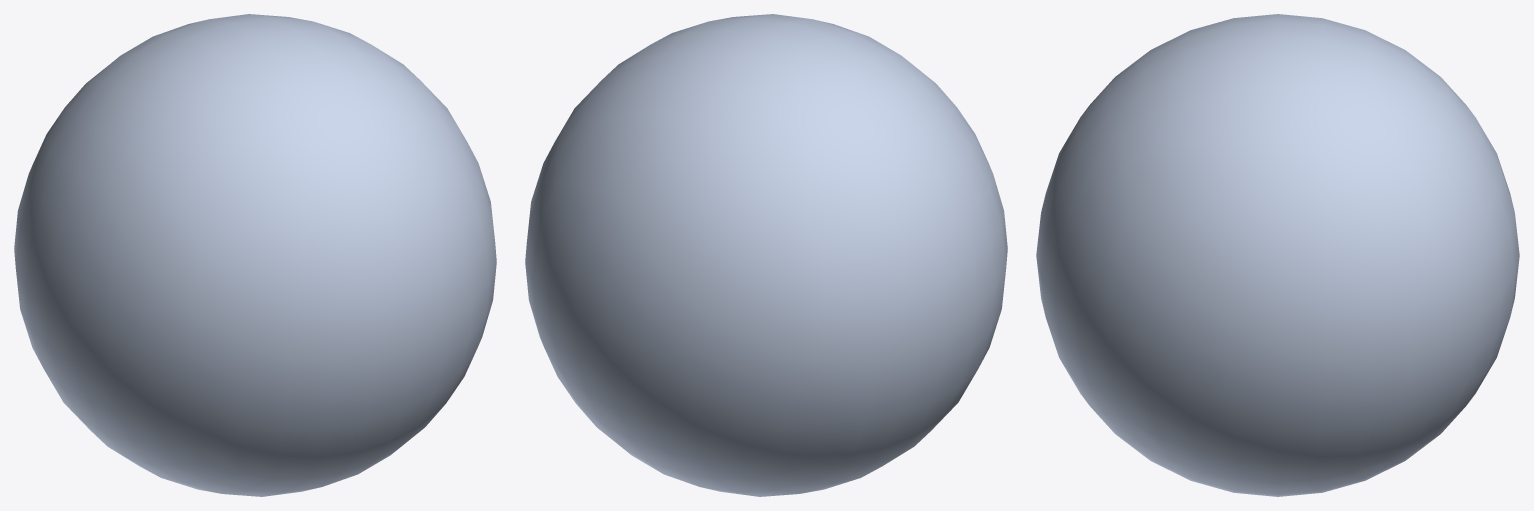
The model's file is WandBubble.fbx.
The picture shows the model from 3 angles, left to right: view 1: azimuth 30°, elevation 25°; view 2: azimuth 150°, elevation 25°; view 3: azimuth 270°, elevation 25°; orthographic projection.
Visible parts, largest first — view 1: Bubble; view 2: Bubble; view 3: Bubble.
Part boxes in pixels (x1,y1,x2,y2): Bubble: (14,14,496,496); Bubble: (525,14,1007,496); Bubble: (1036,14,1519,496).
Bounding box in the file's own units: 510 × 510 × 510.
